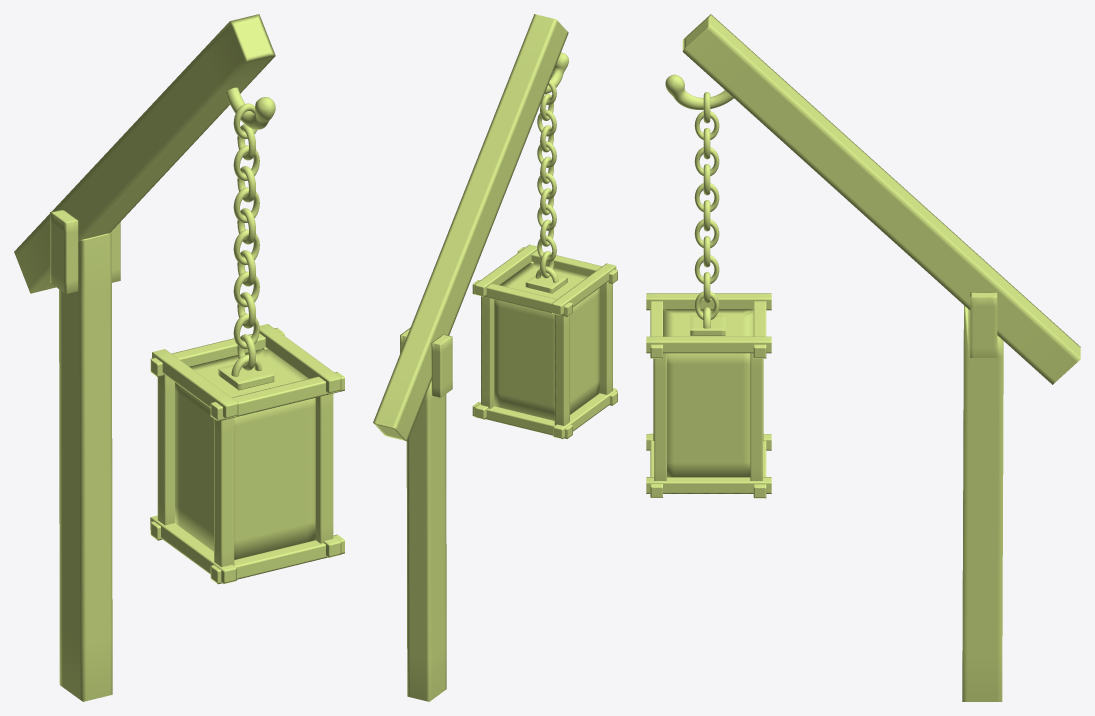
The model's file is Lantern v1 01.fbx.
The picture shows the model from 3 angles, left to right: view 1: azimuth 30°, elevation 25°; view 2: azimuth 150°, elevation 25°; view 3: azimuth 270°, elevation 25°; orthographic projection. The views are drawn at different scales.
Parts seen in each view (by area): view 1: PM3D_Cube3D_1; view 2: PM3D_Cube3D_1; view 3: PM3D_Cube3D_1.
Boxes of the visible parts, bbox=[...] form: PM3D_Cube3D_1: bbox=[14, 14, 344, 701]; PM3D_Cube3D_1: bbox=[373, 14, 617, 701]; PM3D_Cube3D_1: bbox=[646, 14, 1080, 701].
Bounding box in the file's own units: 4.31 × 25.58 × 14.91.
